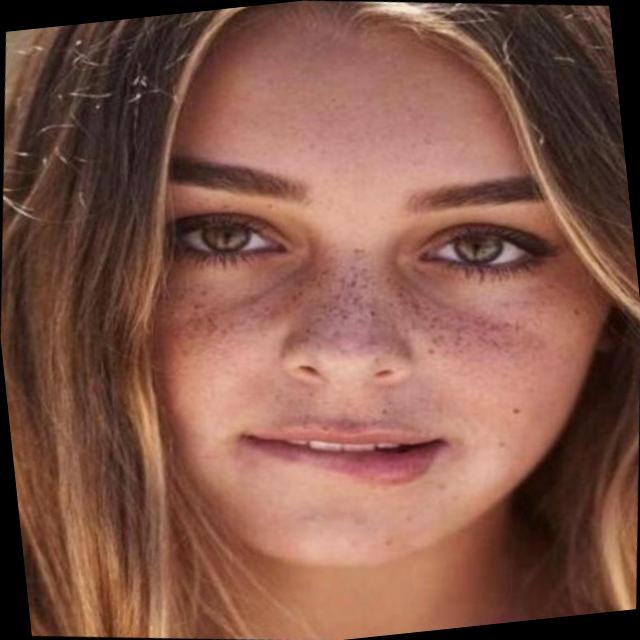freckle: (144, 224, 607, 450)
